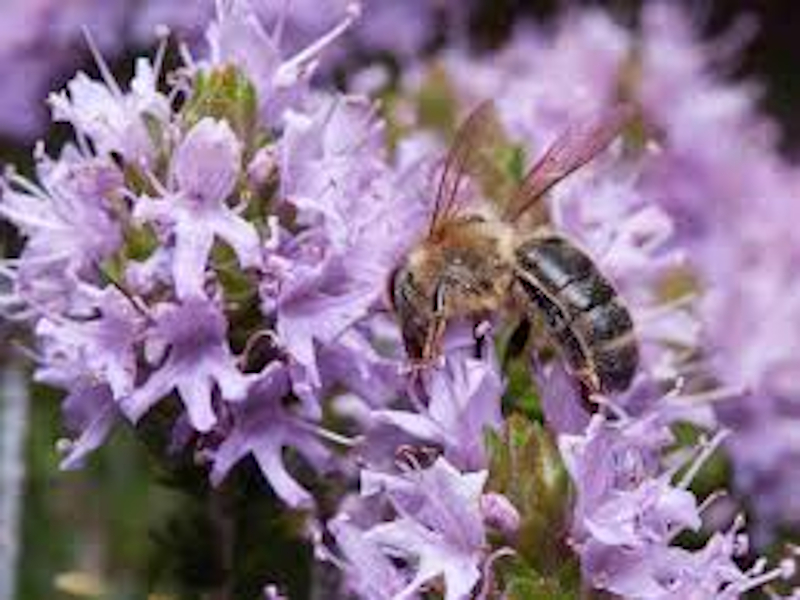abeja: (328, 92, 725, 411)
